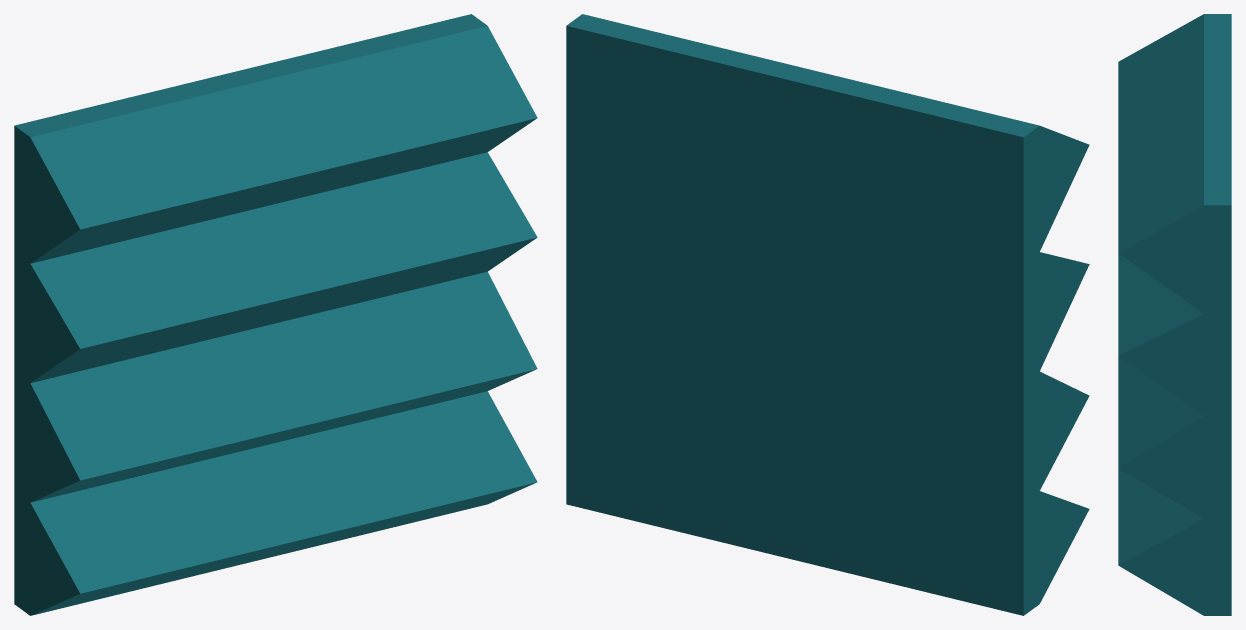
3 renders of one model, left to right at view 1: azimuth 30°, elevation 25°; view 2: azimuth 150°, elevation 25°; view 3: azimuth 270°, elevation 25°, orthographic. The views are drawn at different scales.
Parts seen in each view (by area): view 1: Body1; view 2: Body1; view 3: Body1.
Part boxes in pixels (<box>): Body1: <box>14,14,537,615</box>; Body1: <box>566,14,1089,615</box>; Body1: <box>1118,14,1231,615</box>.
Size of the model in its own units: 30.48 by 30.48 by 7.62.
